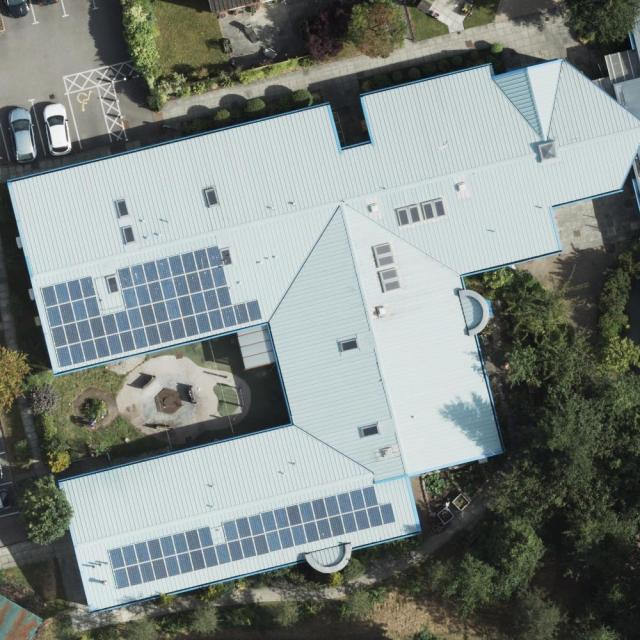roof: (6, 0, 640, 614)
skylight: (421, 196, 448, 221), (396, 203, 423, 227), (379, 267, 403, 293), (372, 242, 396, 267), (203, 185, 221, 207), (360, 422, 379, 440), (105, 274, 121, 295), (220, 245, 234, 265), (341, 338, 358, 354), (122, 226, 137, 244), (116, 198, 130, 217)
solar: (107, 483, 396, 589), (39, 245, 263, 369)
